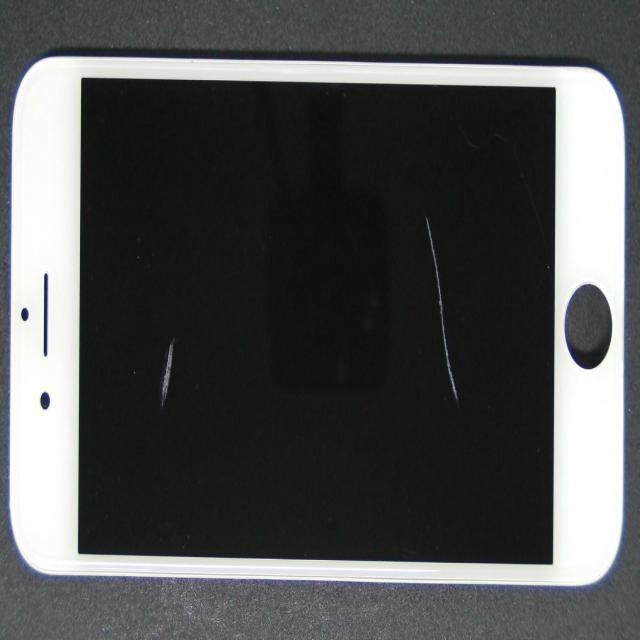scratch: (194, 0, 635, 404), (77, 214, 231, 640)
